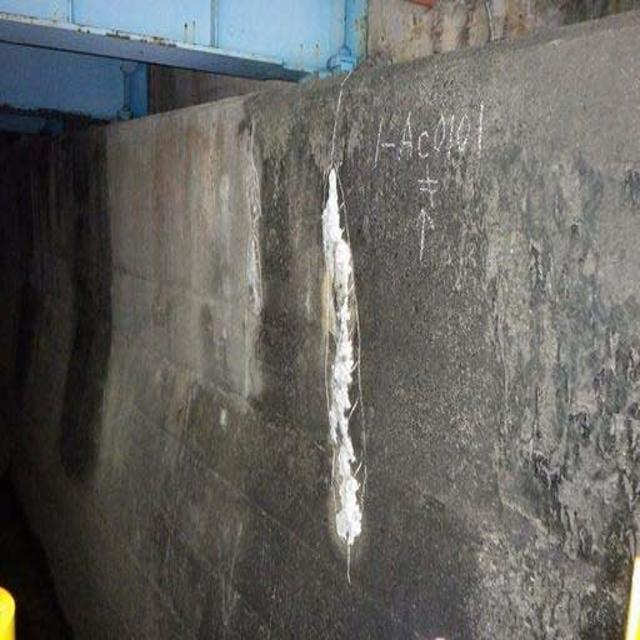freelime: (306, 173, 381, 546)
